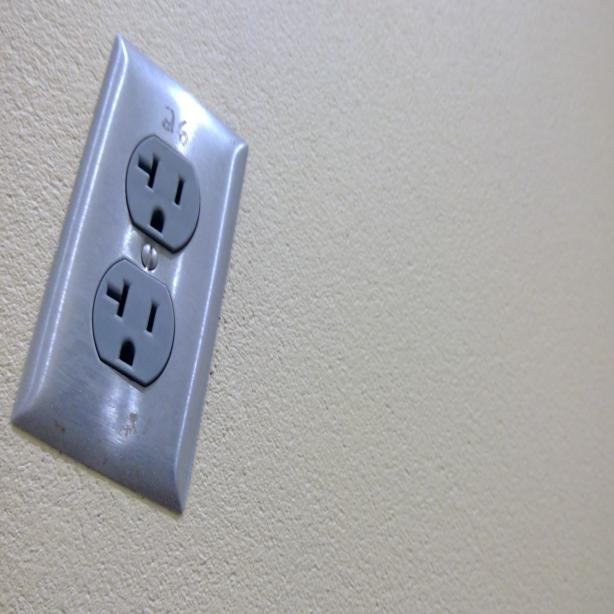typeb: (90, 257, 176, 388), (128, 131, 201, 248)
